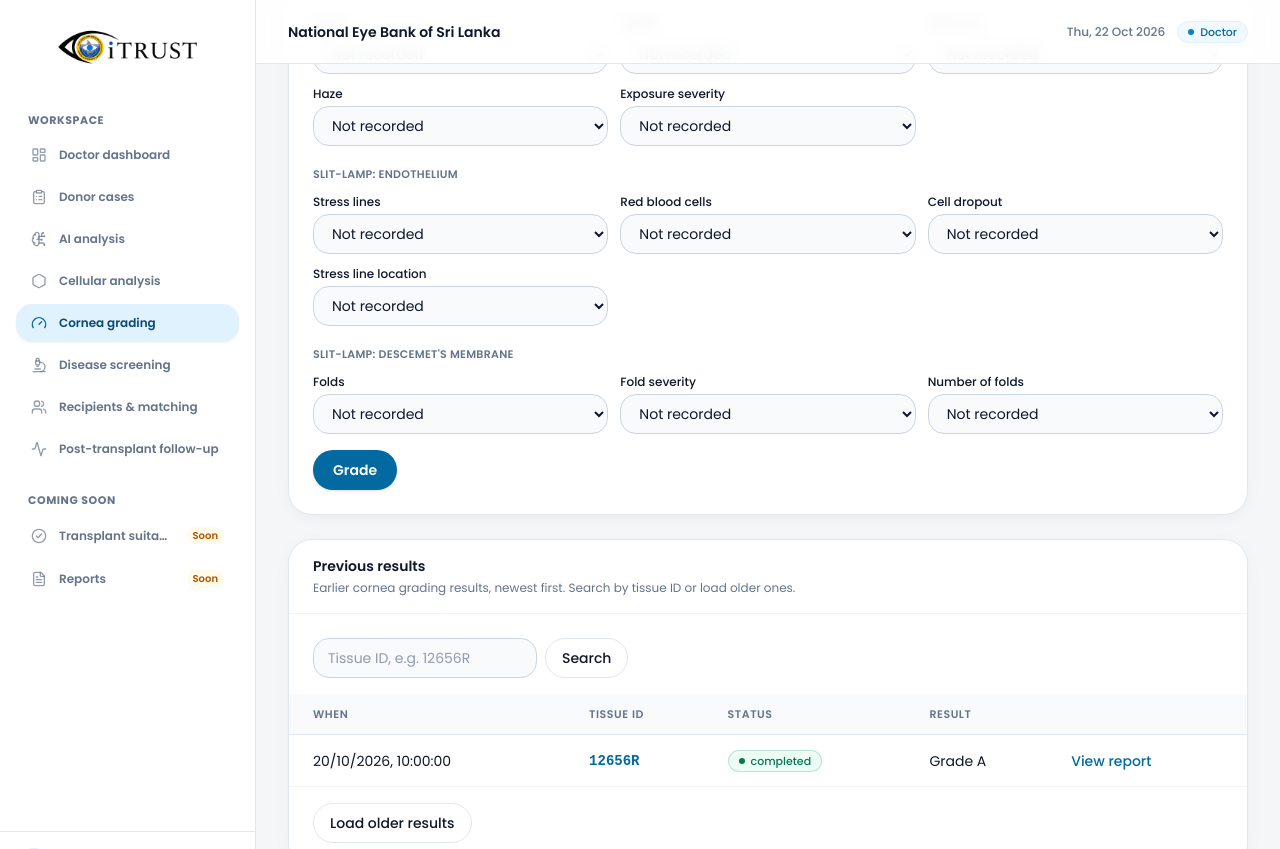
Test: Previous results on a module page › checks the tissue ID before searching
(page scrolled)
Expected: the link "12656R" is shown, [589,753,640,769]
In the field named "Search by tissue ID": coordinates (425, 658) [313,638,537,678], type "CASE-1"
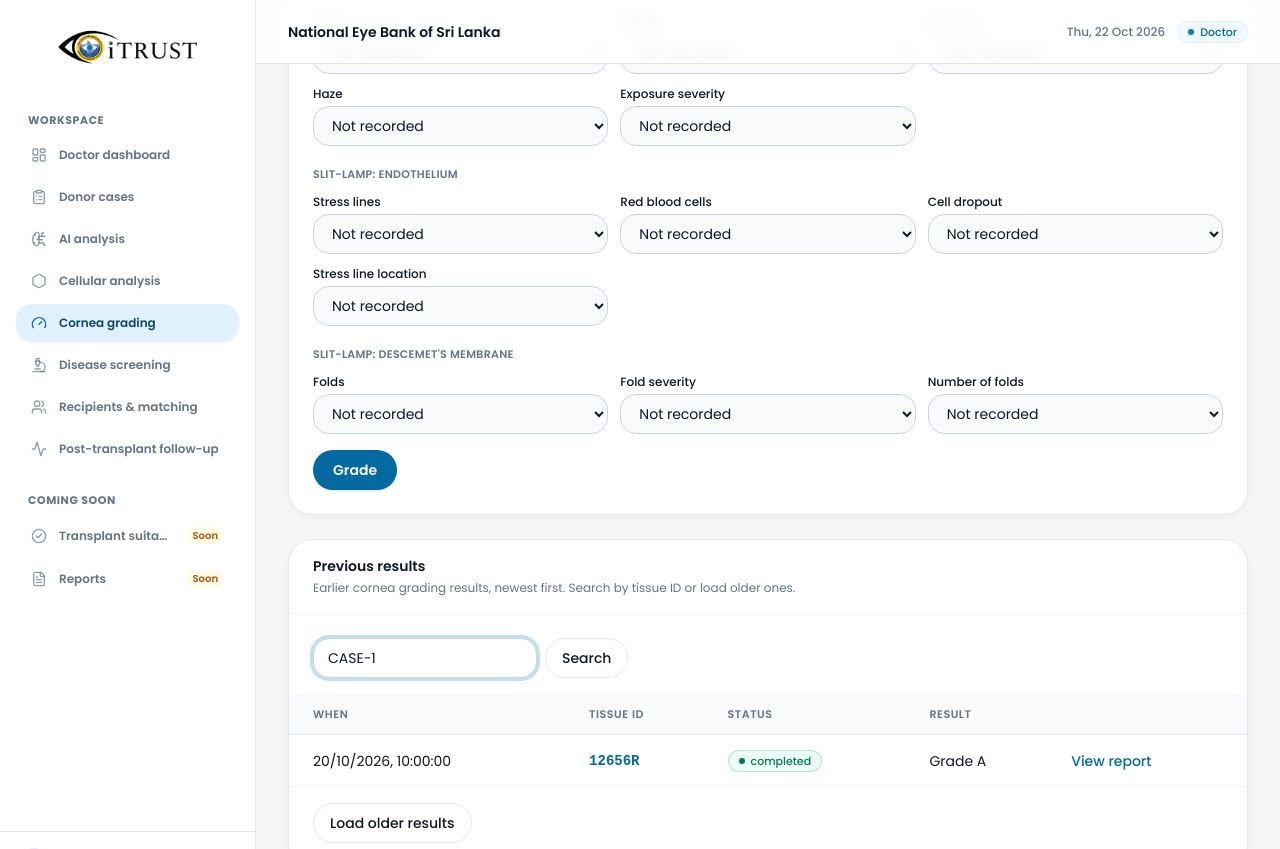
Click the button "Search": coordinates (587, 658) [545,638,628,678]
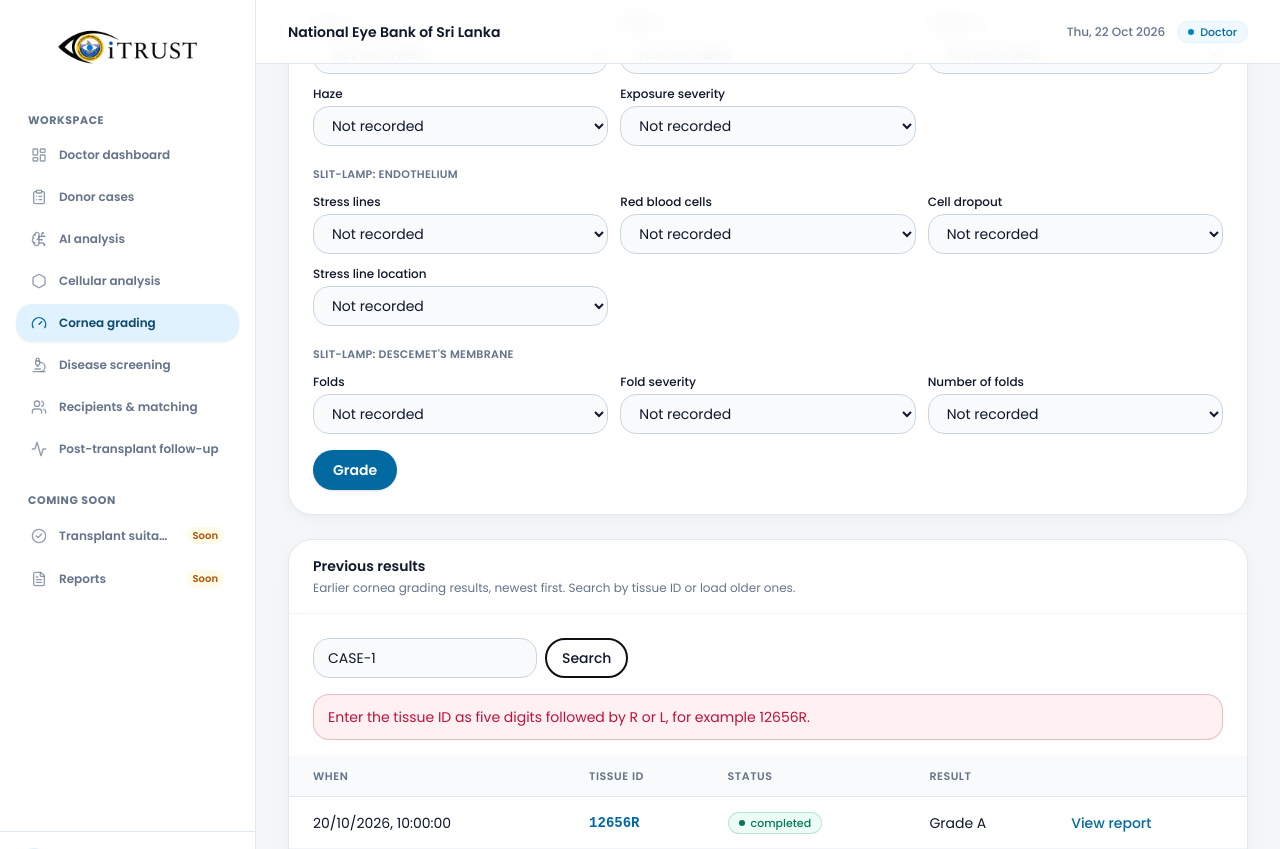
Expected: the message shows "five digits followed by R or L", [328,707,810,727]
